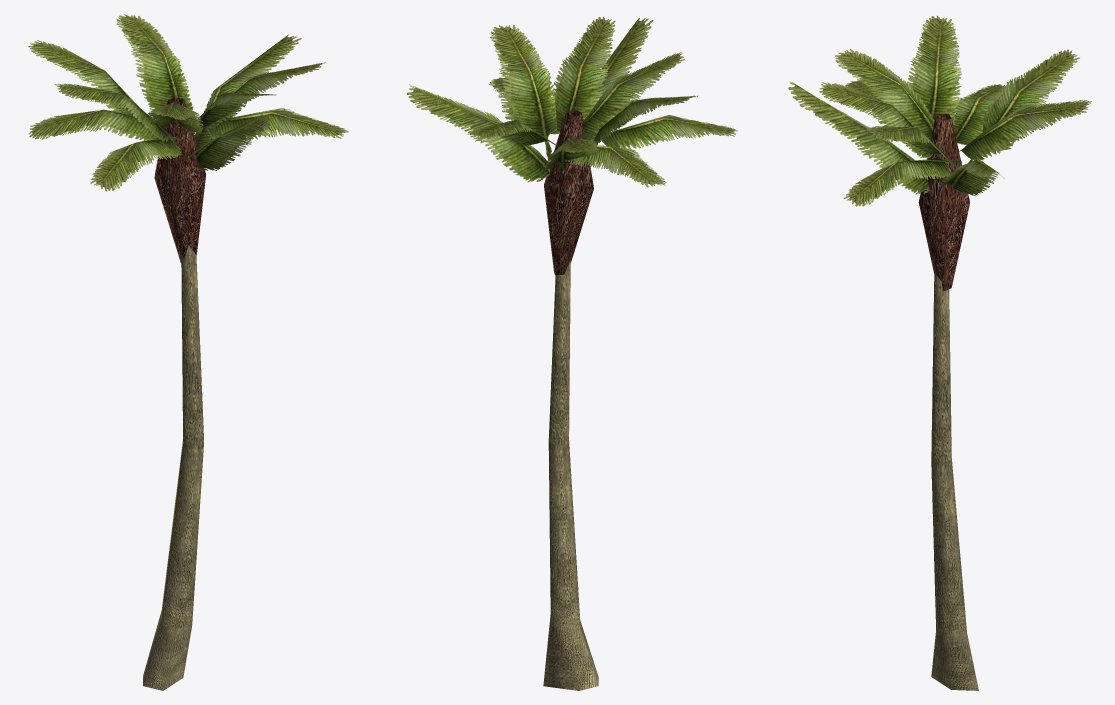
File: palm_date_d.glb
3 renders of one model, left to right at view 1: azimuth 30°, elevation 25°; view 2: azimuth 150°, elevation 25°; view 3: azimuth 270°, elevation 25°, orthographic. The views are drawn at different scales.
Size of the model in its own units: 8.05 by 16.37 by 7.96.
1 material, 1 textured.
